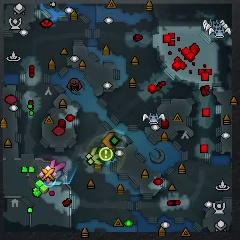Other: (39, 166, 56, 183), (99, 147, 113, 161)
x1: (49, 159, 66, 171)
x2: (89, 148, 102, 165)
x3: (50, 171, 62, 186)
x5: (103, 132, 115, 149)
